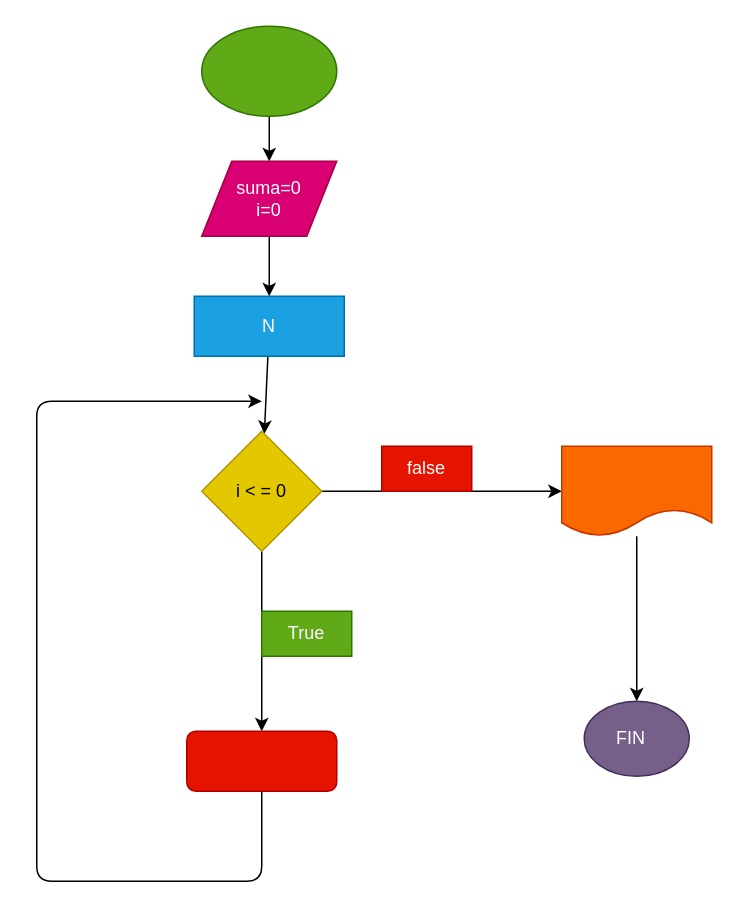
Image size: 738x920. Some labels were removed from this diagram. The centre of each missing label's shape, as x and y in pixels:
"INICIO" belongs at point (268, 70).
"suma" belongs at point (636, 490).
"suma = sum + I I = I + 1" belongs at point (261, 760).
